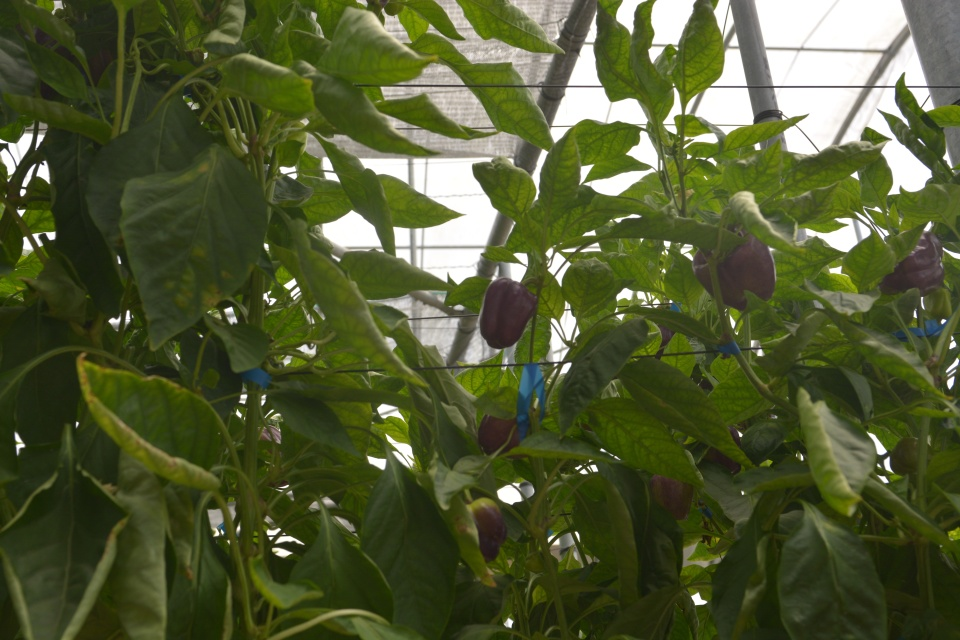fruit: (691, 221, 777, 312), (877, 227, 948, 296), (478, 275, 538, 350), (453, 495, 508, 572), (476, 405, 537, 460), (648, 473, 695, 521), (702, 424, 742, 476), (256, 425, 290, 486), (889, 435, 933, 477), (922, 286, 953, 320), (521, 548, 560, 574), (654, 321, 676, 360)
